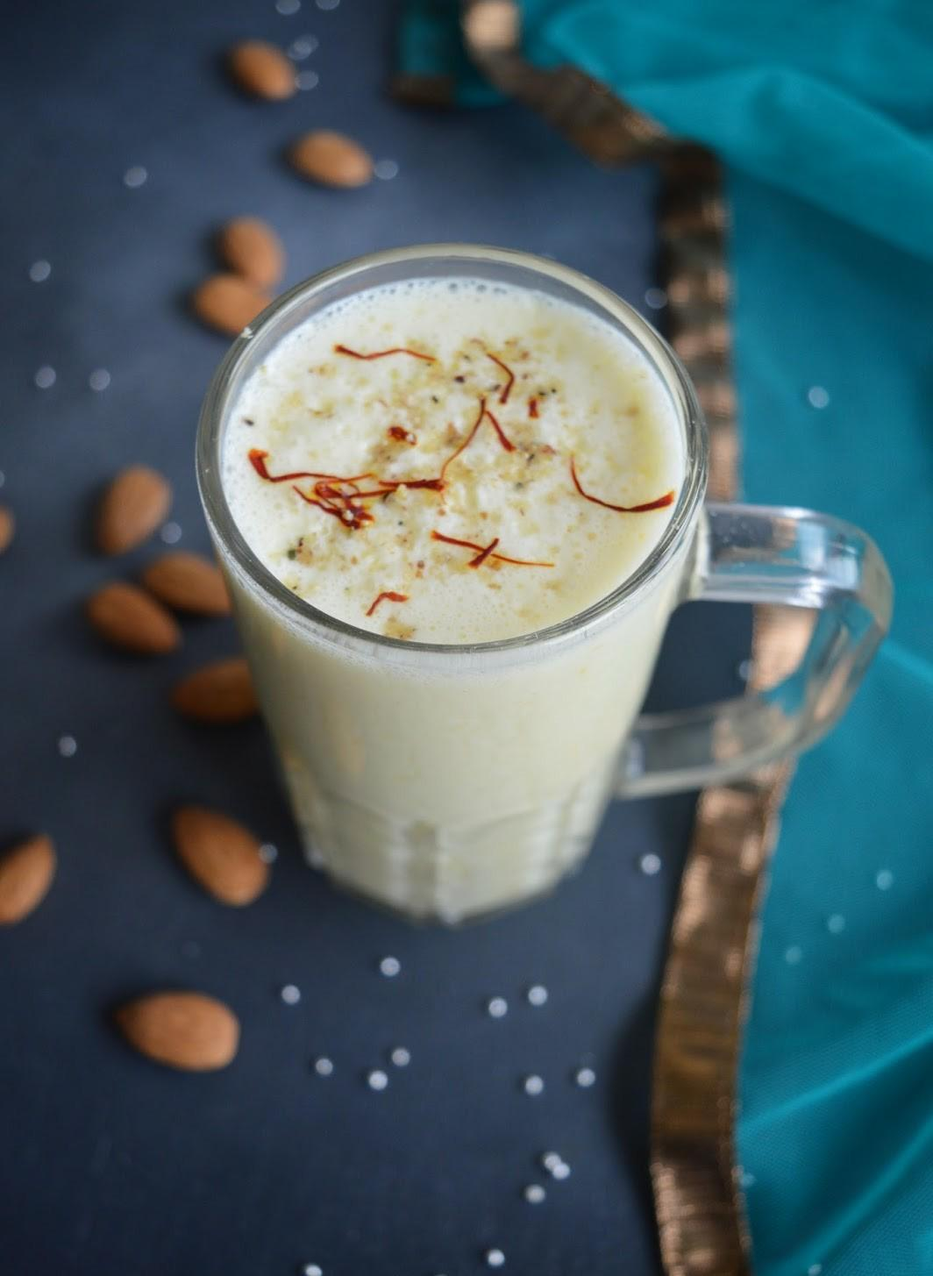Lassi: (211, 276, 698, 917)
